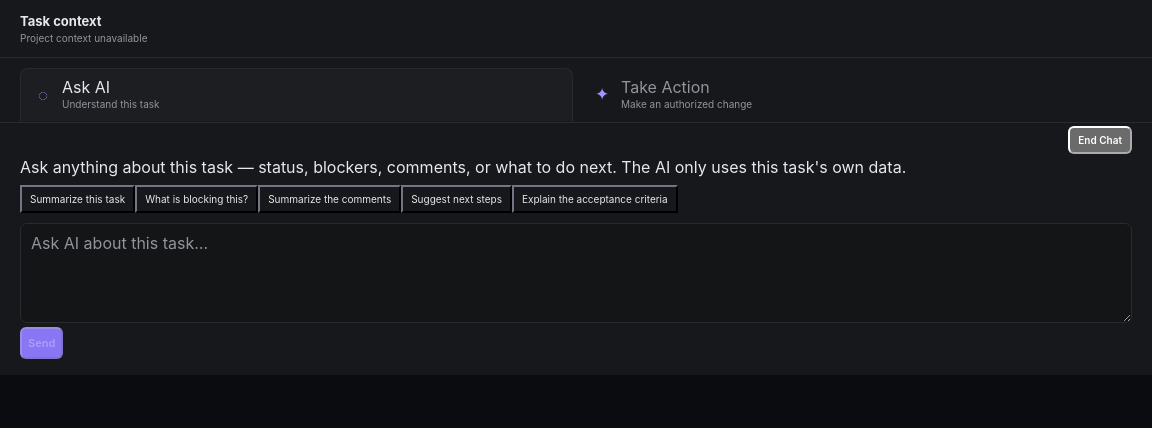
TaskAgentWorkspace › Ask AI sends the selected task ID and renders the backend answer
The image size is (1152, 428).
Click the button "Summarize this task" at (78, 199), box [20, 185, 135, 213]
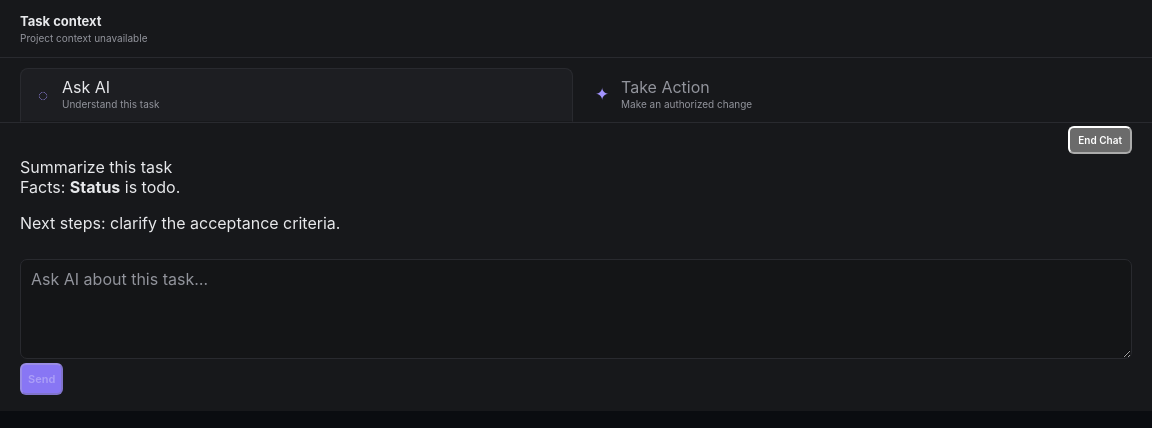
Expected: the text "Facts: Status is todo." is shown, [20, 177, 180, 197]
